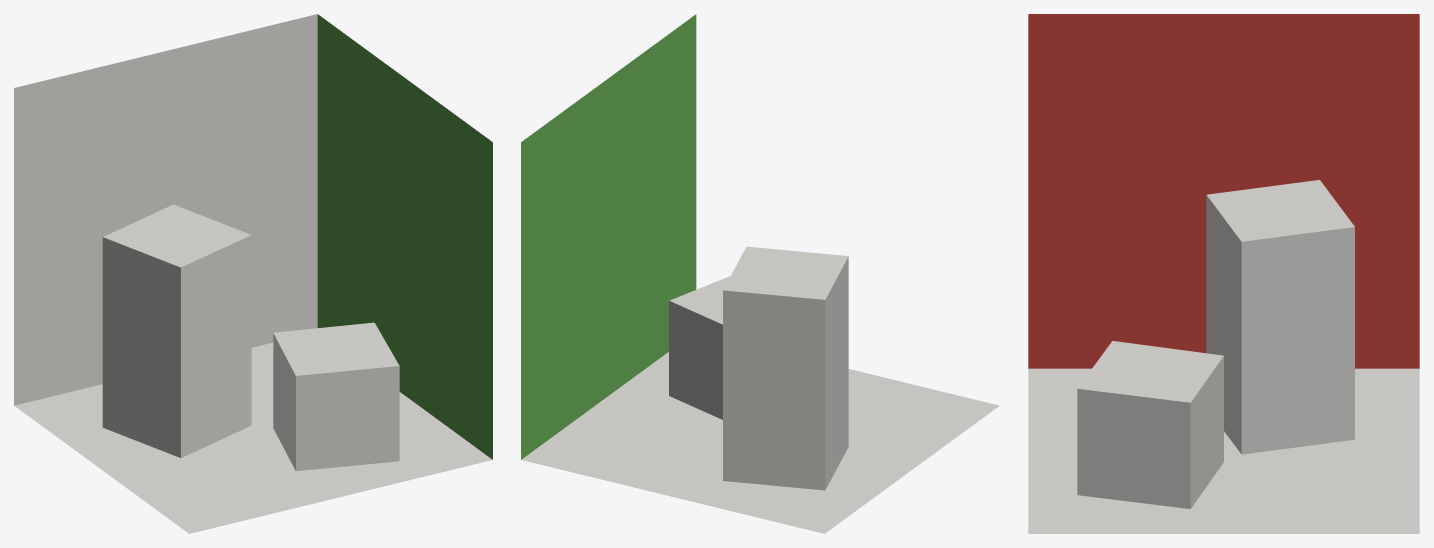
The model's file is Cornell.gltf.
3 views of the same model, side by side, from view 1: azimuth 30°, elevation 25°; view 2: azimuth 150°, elevation 25°; view 3: azimuth 270°, elevation 25° (orthographic). The views are drawn at different scales.
Visible parts, largest first — view 1: cornell.001, cornell; view 2: cornell.001, cornell; view 3: cornell.002, cornell.001.
Part boxes in pixels (x1,y1,x2,y2): cornell.001: (14,14,492,533); cornell: (317,14,492,459); cornell.001: (521,246,999,533); cornell: (521,14,696,459); cornell.002: (1028,14,1419,368); cornell.001: (1028,180,1419,533).
Size of the model in its own units: 2 by 2.02 by 2.
